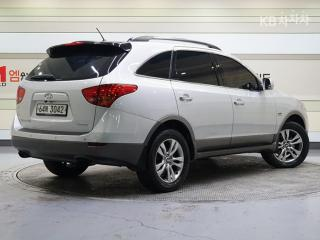0: (53, 105, 57, 113)
2: (60, 105, 65, 113)
3: (50, 105, 54, 114)
4: (57, 105, 61, 114), (41, 105, 45, 113)
6: (39, 105, 42, 113)
허: (44, 105, 49, 112)
